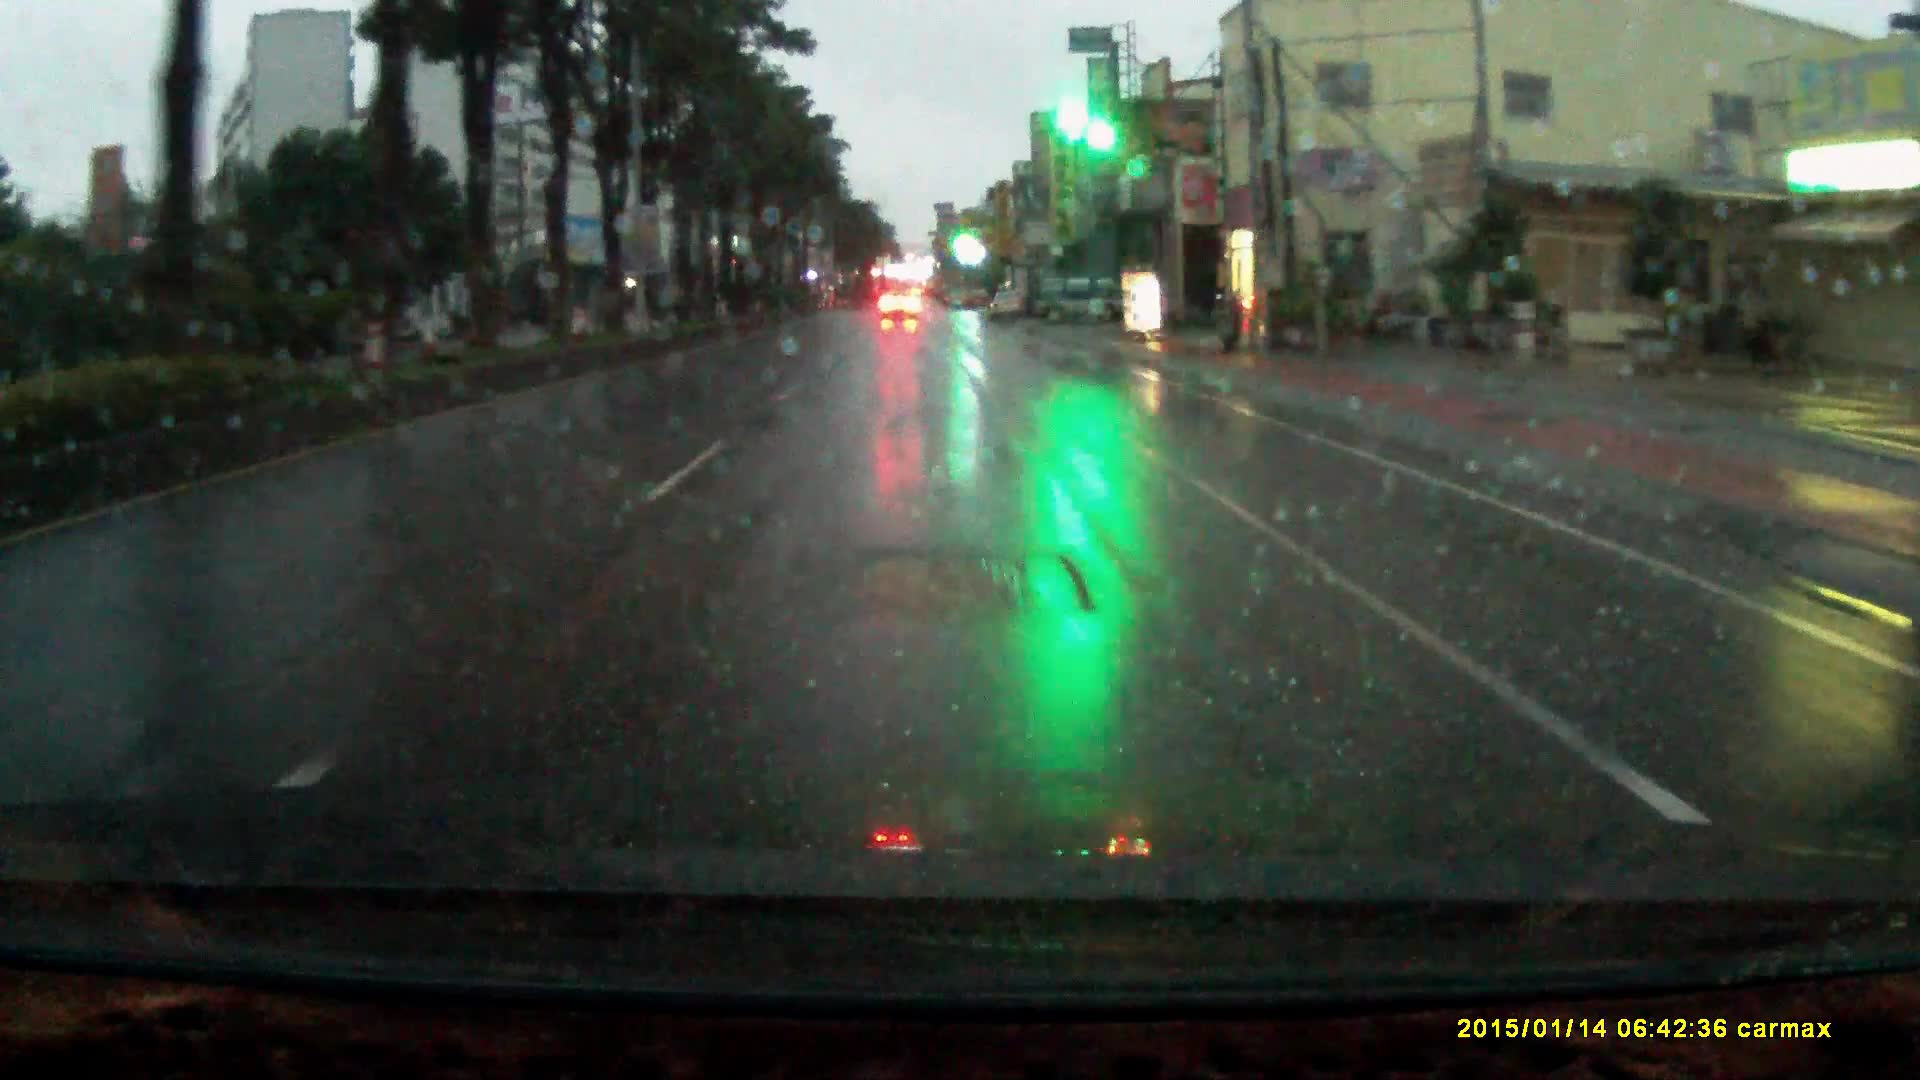vehicle: (1035, 272, 1127, 324), (880, 291, 924, 324)
